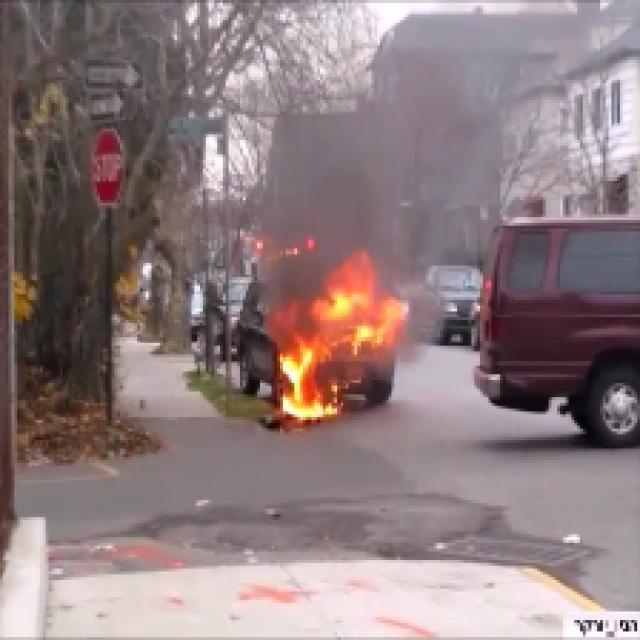fire: (270, 274, 397, 426)
smoke: (278, 137, 396, 250), (398, 73, 455, 257)
